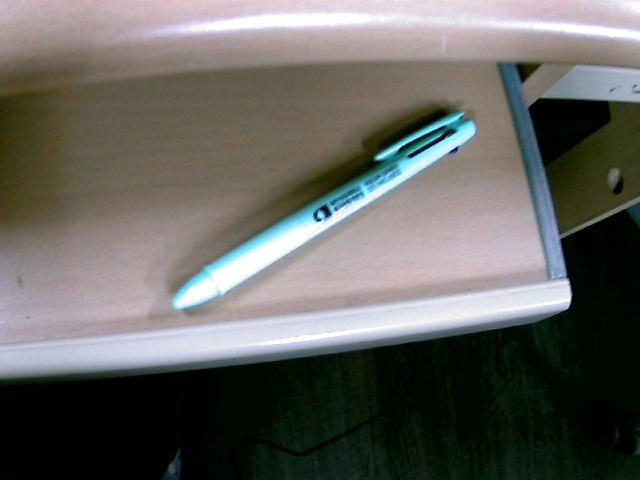pen: (151, 86, 513, 294)
